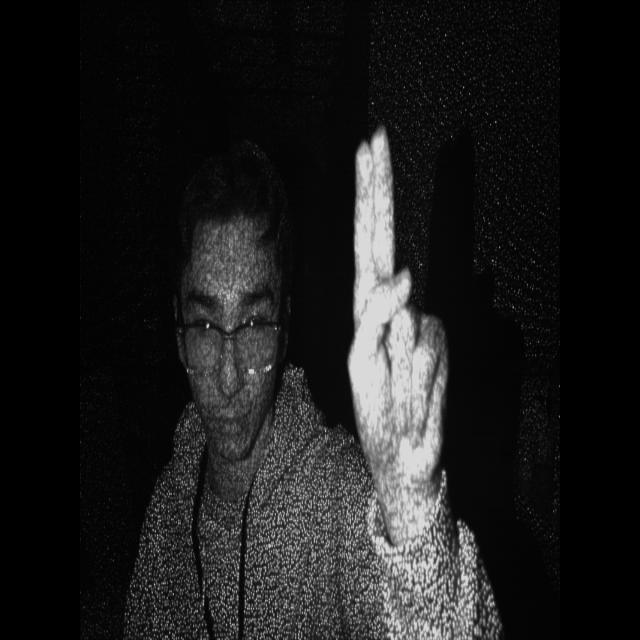U: (342, 108, 460, 513)
